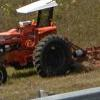Tractor: (2, 6, 76, 86)
